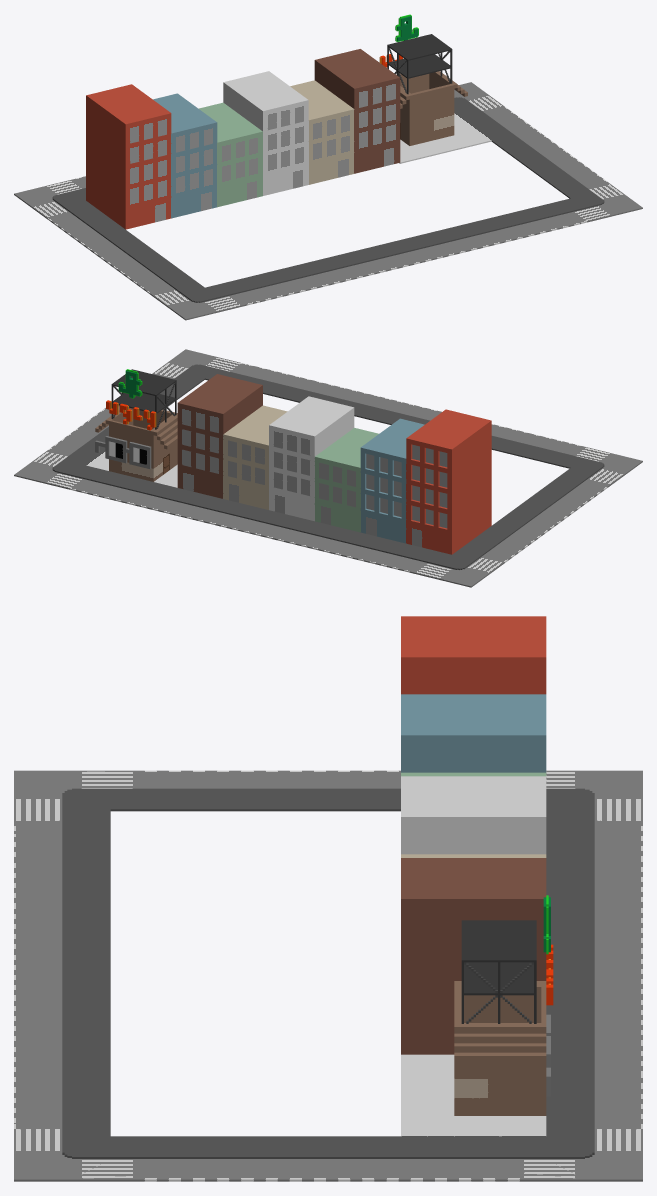
Rendered from Block_Ugly.glb.
3 views of the same model, one above another, from view 1: azimuth 30°, elevation 25°; view 2: azimuth 150°, elevation 25°; view 3: azimuth 270°, elevation 25° (orthographic). The views are drawn at different scales.
Visible parts, largest first — view 1: Block_Ugly; view 2: Block_Ugly; view 3: Block_Ugly.
Boxes of the visible parts, x1,y1,x2,y2 form: Block_Ugly: (14, 14, 642, 320); Block_Ugly: (14, 349, 642, 587); Block_Ugly: (14, 616, 642, 1181).
Bounding box in the file's own units: 4 × 0.91 × 2.6.
1 material, 1 textured.
